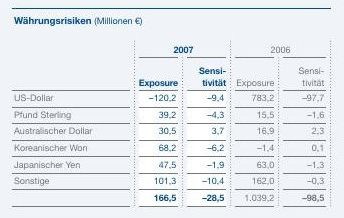table: (0, 0, 344, 218)
